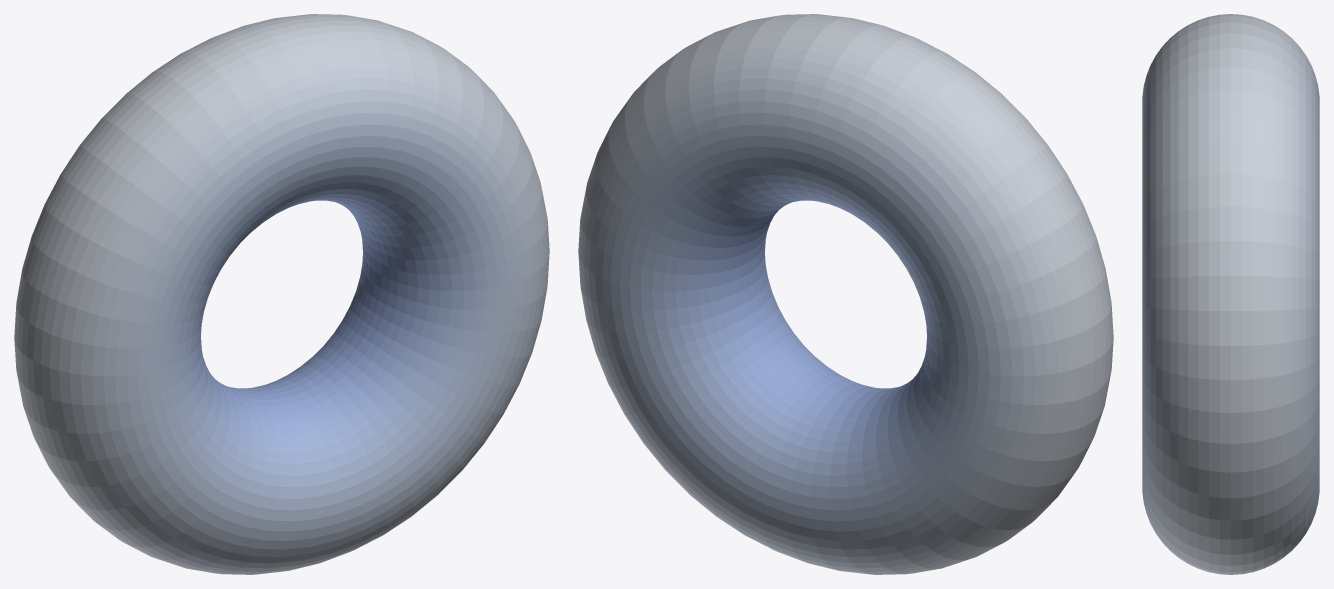
The picture shows the model from 3 angles, left to right: view 1: azimuth 30°, elevation 25°; view 2: azimuth 150°, elevation 25°; view 3: azimuth 270°, elevation 25°; orthographic projection. The views are drawn at different scales.
Visible parts, largest first — view 1: world; view 2: world; view 3: world.
Part boxes in pixels (box(x1,y1,x2,y2)): world: box(14, 14, 549, 574); world: box(578, 14, 1113, 574); world: box(1142, 14, 1319, 574).
Size of the model in its own units: 21.47 by 21.42 by 6.79.
